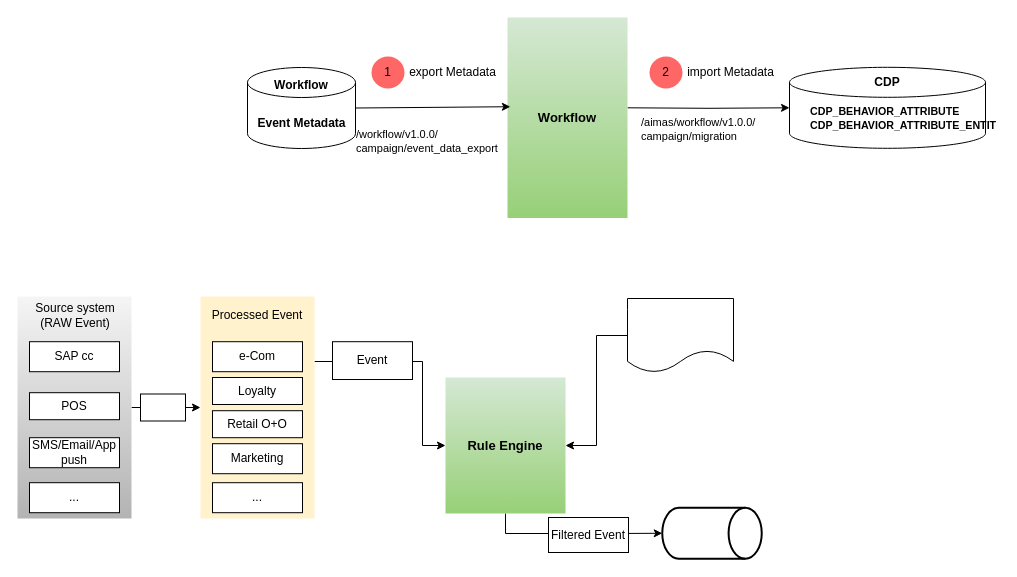
Image size: 1017x577. Some labels were removed from this diagram. Each missing label, with the centre of its shape:
CP: the point at 711,532
Drolls script: the point at 680,335
flink job: the point at 163,407
